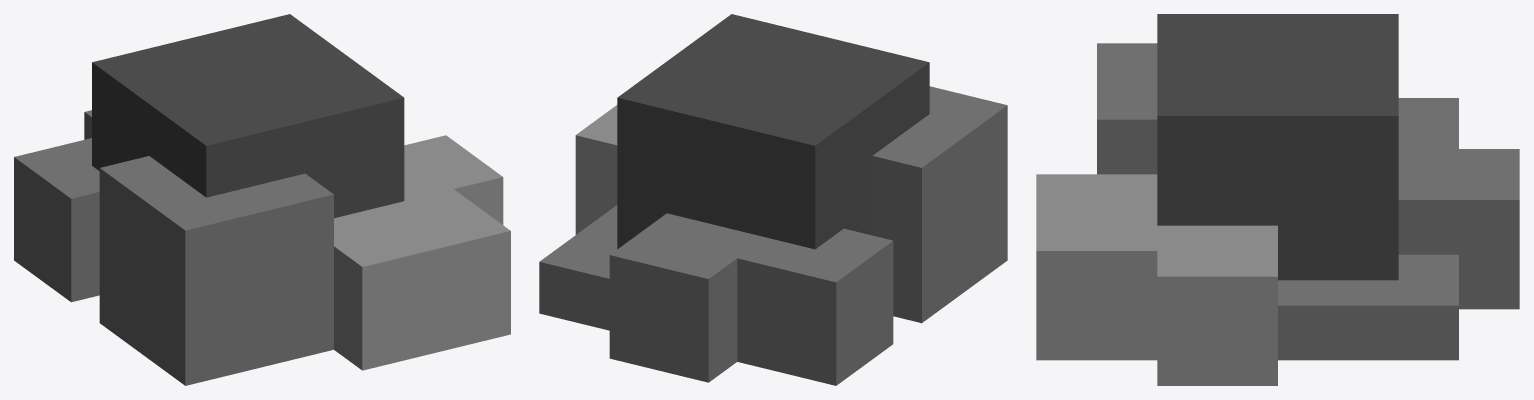
Rendered from Rocks-1.obj.
The picture shows the model from 3 angles, left to right: view 1: azimuth 30°, elevation 25°; view 2: azimuth 150°, elevation 25°; view 3: azimuth 270°, elevation 25°; orthographic projection. The views are drawn at different scales.
Visible parts, largest first — view 1: Rocks-1; view 2: Rocks-1; view 3: Rocks-1.
Boxes of the visible parts, box(x1,y1,x2,y2) form: Rocks-1: box(14, 14, 510, 385); Rocks-1: box(539, 14, 1007, 385); Rocks-1: box(1036, 14, 1519, 385).
Bounding box in the file's own units: 7 × 4 × 8.
Materials: 1 (1 with a texture image).
